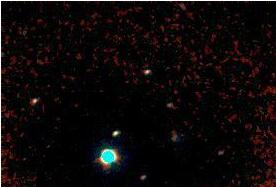star: (94, 147, 124, 177)
